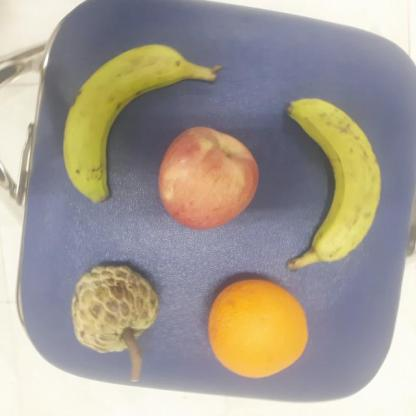annona: (69, 263, 162, 356)
apple: (158, 124, 262, 234)
banana: (61, 42, 224, 206), (287, 100, 383, 273)
orange: (207, 278, 312, 379)
